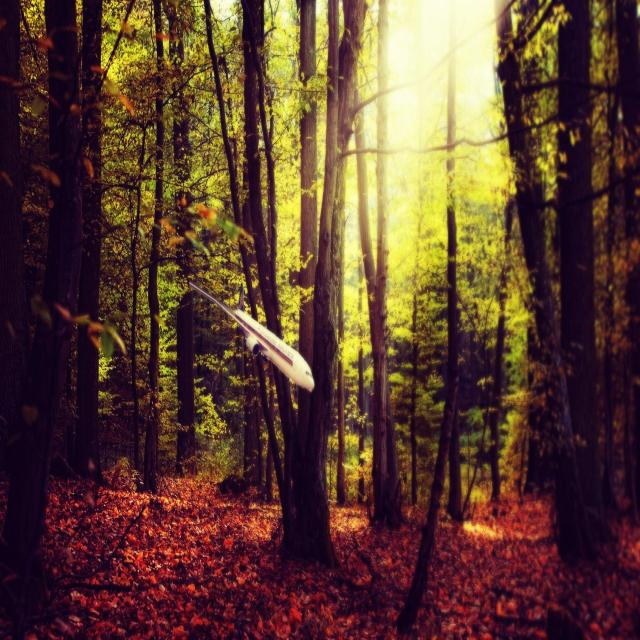airplane: (188, 280, 315, 394)
